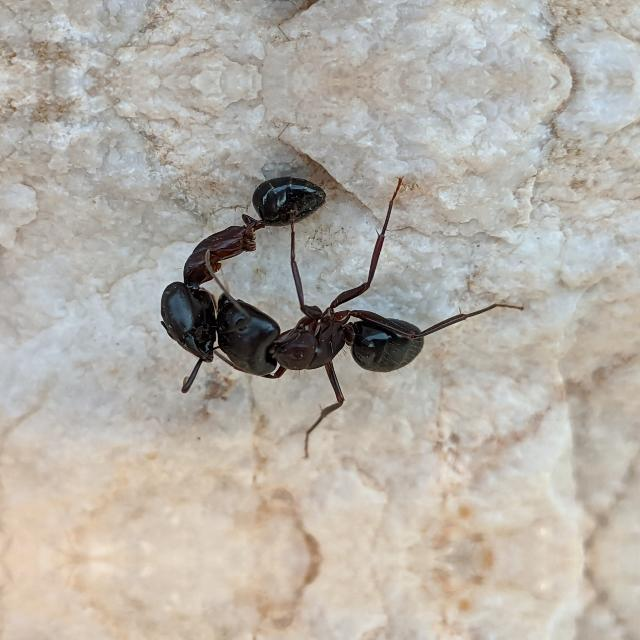Camponotus: (196, 221, 514, 401), (141, 138, 333, 370)
